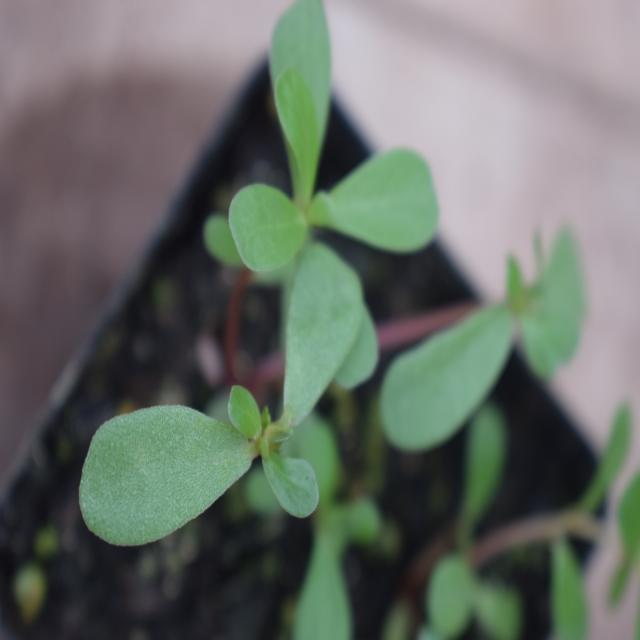purslane: (220, 19, 579, 457), (44, 228, 416, 552)
